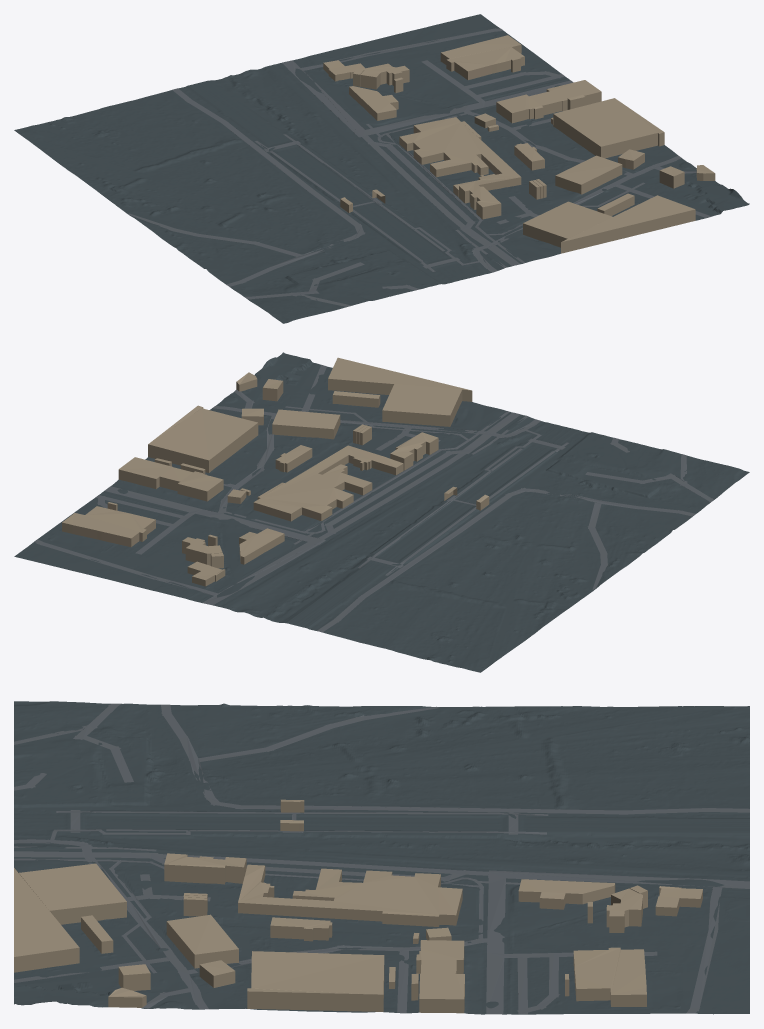
File: epsg26910-1439-10868.lod0.glb
3 views of the same model, one above another, from view 1: azimuth 30°, elevation 25°; view 2: azimuth 150°, elevation 25°; view 3: azimuth 270°, elevation 25° (orthographic). The views are drawn at different scales.
Parts seen in each view (by area): view 1: epsg26910-1439-10868-lod0; view 2: epsg26910-1439-10868-lod0; view 3: epsg26910-1439-10868-lod0.
Part boxes in pixels (bbox=[...]): epsg26910-1439-10868-lod0: bbox=[14, 14, 749, 323]; epsg26910-1439-10868-lod0: bbox=[14, 352, 749, 672]; epsg26910-1439-10868-lod0: bbox=[14, 701, 749, 1014].
Bounding box in the file's own units: 384 × 15.44 × 384.
